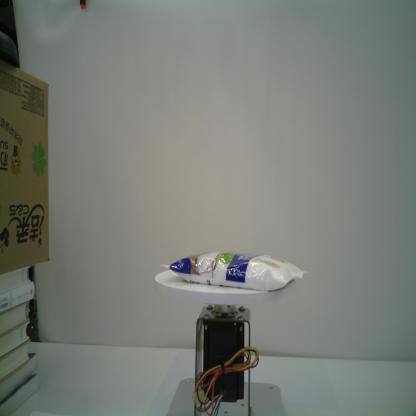Seasoner: (159, 248, 310, 293)
